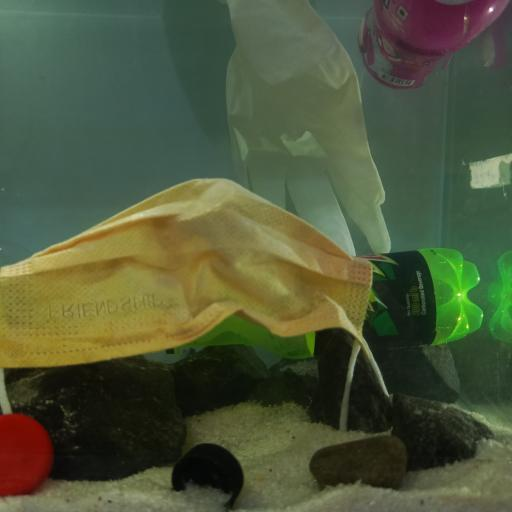bottle_cap: (170, 441, 245, 512), (2, 413, 55, 496)
glove: (222, 0, 393, 257)
mask: (1, 176, 384, 384)
plastic_bottle: (153, 249, 485, 355), (357, 2, 509, 94)
